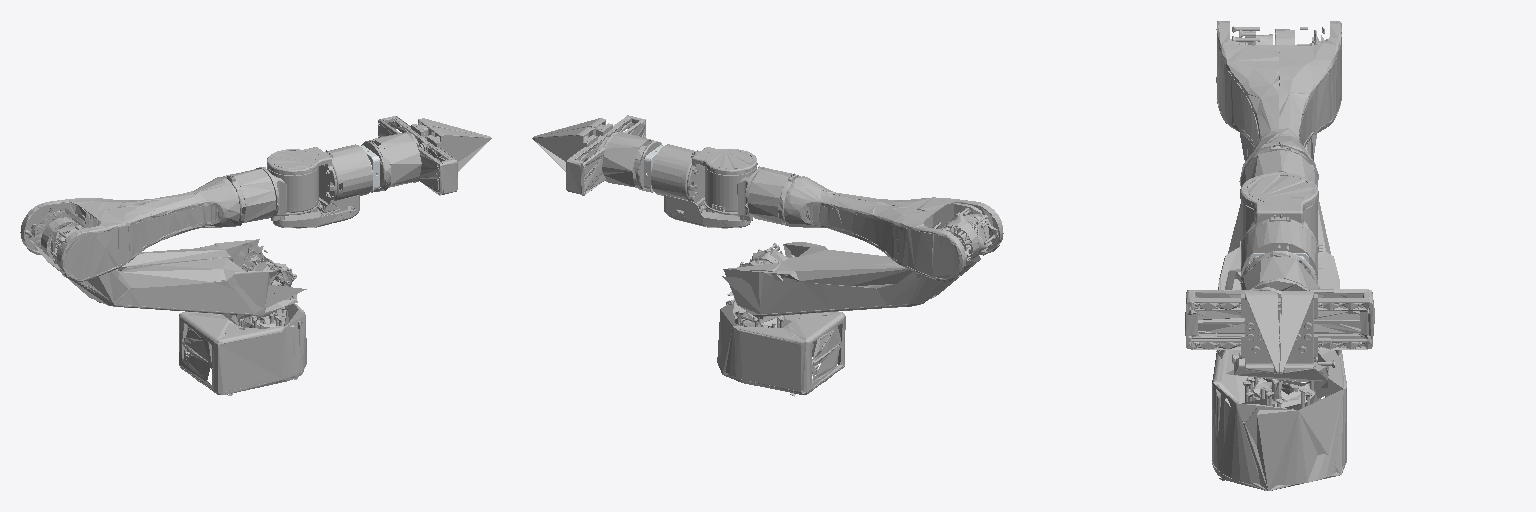
robot.urdf — play_g2:
<?xml version="1.0" ?>
<robot name="play_g2">
  <mujoco>
    <compiler boundmass="0.0001" boundinertia="1e-8" balanceinertia="true" discardvisual="false"/>
  </mujoco>
  <link name="base_link">
    <inertial>
      <origin xyz="-0.018345 -0.002558 0.03724" rpy="0 0 0"/>
      <mass value="0.6735"/>
      <inertia ixx="0.00121381" ixy="-3.271E-05" ixz="-0.00023366" iyy="0.00164872" iyz="-2.757E-05" izz="0.00126552"/>
    </inertial>
    <visual>
      <origin xyz="0 0 0" rpy="0 0 0"/>
      <geometry>
        <mesh filename="meshes/base_link.obj"/>
      </geometry>
      <material name="">
        <color rgba="0.75294 0.75294 0.75294 1"/>
      </material>
    </visual>
    <collision>
      <origin xyz="0 0 0" rpy="0 0 0"/>
      <geometry>
        <mesh filename="meshes/base_link.obj"/>
      </geometry>
    </collision>
  </link>
  <link name="link1">
    <inertial>
      <origin xyz="0.00014396 -0.00098536 -0.020968" rpy="0 0 0"/>
      <mass value="0.607"/>
      <inertia ixx="0.0011117" ixy="1.605E-05" ixz="-1.45E-06" iyy="0.0010136" iyz="-7.07E-06" izz="0.0003867"/>
    </inertial>
    <visual>
      <origin xyz="0 0 0" rpy="0 0 0"/>
      <geometry>
        <mesh filename="meshes/link1.obj"/>
      </geometry>
      <material name="">
        <color rgba="0.75294 0.75294 0.75294 1"/>
      </material>
    </visual>
    <collision>
      <origin xyz="0 0 0" rpy="0 0 0"/>
      <geometry>
        <mesh filename="meshes/link1.obj"/>
      </geometry>
    </collision>
  </link>
  <link name="link2">
    <inertial>
      <origin xyz="0.13769 0.012537 0.0044739" rpy="0 0 0"/>
      <mass value="0.918"/>
      <inertia ixx="0.00094437" ixy="0.00112155" ixz="-0.00063705" iyy="0.03479442" iyz="-7.45E-06" izz="0.03461144"/>
    </inertial>
    <visual>
      <origin xyz="0 0 0" rpy="0 0 0"/>
      <geometry>
        <mesh filename="meshes/link2.obj"/>
      </geometry>
      <material name="">
        <color rgba="0.75294 0.75294 0.75294 1"/>
      </material>
    </visual>
    <collision>
      <origin xyz="0 0 0" rpy="0 0 0"/>
      <geometry>
        <mesh filename="meshes/link2.obj"/>
      </geometry>
    </collision>
  </link>
  <link name="link3">
    <inertial>
      <origin xyz="1.5134E-05 0.10706 0.0082136" rpy="0 0 0"/>
      <mass value="0.7"/>
      <inertia ixx="0.01565914" ixy="1.007E-05" ixz="1.02E-06" iyy="0.00045929" iyz="0.00010253" izz="0.0154811"/>
    </inertial>
    <visual>
      <origin xyz="0 0 0" rpy="0 0 0"/>
      <geometry>
        <mesh filename="meshes/link3.obj"/>
      </geometry>
      <material name="">
        <color rgba="0.75294 0.75294 0.75294 1"/>
      </material>
    </visual>
    <collision>
      <origin xyz="0 0 0" rpy="0 0 0"/>
      <geometry>
        <mesh filename="meshes/link3.obj"/>
      </geometry>
    </collision>
  </link>
  <link name="link4">
    <inertial>
      <origin xyz="-1.6216E-05 0.002995 -0.019407" rpy="0 0 0"/>
      <mass value="0.359"/>
      <inertia ixx="0.00051773" ixy="-4E-08" ixz="1.5E-07" iyy="0.00052925" iyz="-4.05E-06" izz="0.00013681"/>
    </inertial>
    <visual>
      <origin xyz="0 0 0" rpy="0 0 0"/>
      <geometry>
        <mesh filename="meshes/link4.obj"/>
      </geometry>
      <material name="">
        <color rgba="0.75294 0.75294 0.75294 1"/>
      </material>
    </visual>
    <collision>
      <origin xyz="0 0 0" rpy="0 0 0"/>
      <geometry>
        <mesh filename="meshes/link4.obj"/>
      </geometry>
    </collision>
  </link>
  <link name="link5">
    <inertial>
      <origin xyz="-4.5037E-05 0.033144 0.0024106" rpy="0 0 0"/>
      <mass value="0.403"/>
      <inertia ixx="0.00116016" ixy="-3.1E-07" ixz="-2.4E-07" iyy="0.00024251" iyz="-4.809E-05" izz="0.00108456"/>
    </inertial>
    <visual>
      <origin xyz="0 0 0" rpy="0 0 0"/>
      <geometry>
        <mesh filename="meshes/link5.obj"/>
      </geometry>
      <material name="">
        <color rgba="0.75294 0.75294 0.75294 1"/>
      </material>
    </visual>
    <collision>
      <origin xyz="0 0 0" rpy="0 0 0"/>
      <geometry>
        <mesh filename="meshes/link5.obj"/>
      </geometry>
    </collision>
  </link>
  <link name="link6">
    <inertial>
      <origin xyz="-4.6366E-05 4.3424E-05 0.066592" rpy="0 0 0"/>
      <mass value="0.11"/>
      <inertia ixx="0.00051056" ixy="0" ixz="-3.4E-07" iyy="0.00051056" iyz="3.2E-07" izz="1.73E-05"/>
    </inertial>
    <visual>
      <origin xyz="0 0 0" rpy="0 0 0"/>
      <geometry>
        <mesh filename="meshes/link6.obj"/>
      </geometry>
      <material name="">
        <color rgba="1 1 1 1"/>
      </material>
    </visual>
    <collision>
      <origin xyz="0 0 0" rpy="0 0 0"/>
      <geometry>
        <mesh filename="meshes/link6.obj"/>
      </geometry>
    </collision>
  </link>
  <link name="eef_connect_base_link">
    <inertial>
      <origin xyz="3.5687E-06 0.00020484 -0.004811" rpy="0 0 0"/>
      <mass value="0.019009"/>
      <inertia ixx="4.0476E-06" ixy="-9.5794E-10" ixz="1.8201E-10" iyy="3.9455E-06" iyz="7.997E-09" izz="7.498E-06"/>
    </inertial>
    <visual>
      <origin xyz="0 0 0" rpy="0 0 0"/>
      <geometry>
        <mesh filename="meshes/eef_connect_base_link.obj"/>
      </geometry>
      <material name="">
        <color rgba="0.89804 0.91765 0.92941 1"/>
      </material>
    </visual>
    <collision>
      <origin xyz="0 0 0" rpy="0 0 0"/>
      <geometry>
        <mesh filename="meshes/eef_connect_base_link.obj"/>
      </geometry>
    </collision>
  </link>
  <joint name="joint1" type="revolute">
    <origin xyz="0 0 0.1127" rpy="0 0 0"/>
    <parent link="base_link"/>
    <child link="link1"/>
    <axis xyz="0 0 1"/>
    <limit lower="-3.1416" upper="2.0944" effort="0" velocity="0"/>
  </joint>
  <joint name="joint2" type="revolute">
    <origin xyz="0 0 0" rpy="-1.5708 -0.3867 3.1416"/>
    <parent link="link1"/>
    <child link="link2"/>
    <axis xyz="0 0 1"/>
    <limit lower="-2.9671" upper="0.17453" effort="0" velocity="0"/>
  </joint>
  <joint name="joint3" type="revolute">
    <origin xyz="0.27009 0 0" rpy="0 0 1.9575"/>
    <parent link="link2"/>
    <child link="link3"/>
    <axis xyz="0 0 1"/>
    <limit lower="-0.087266" upper="3.1416" effort="0" velocity="0"/>
  </joint>
  <joint name="joint4" type="revolute">
    <origin xyz="0 0.29015 0" rpy="-1.5708 -1.5708 0"/>
    <parent link="link3"/>
    <child link="link4"/>
    <axis xyz="0 0 1"/>
    <limit lower="-3.0107" upper="3.0107" effort="0" velocity="0"/>
  </joint>
  <joint name="joint5" type="revolute">
    <origin xyz="0 0 0" rpy="1.5708 0 0"/>
    <parent link="link4"/>
    <child link="link5"/>
    <axis xyz="0 0 1"/>
    <limit lower="-1.7628" upper="1.7628" effort="0" velocity="0"/>
  </joint>
  <joint name="joint6" type="revolute">
    <origin xyz="0 0 0" rpy="-1.5708 0 0"/>
    <parent link="link5"/>
    <child link="link6"/>
    <axis xyz="0 0 1"/>
    <limit lower="-3.0107" upper="3.0107" effort="0" velocity="0"/>
  </joint>
  <joint name="arm_connect_joint" type="fixed">
    <parent link="link6"/>
    <child link="eef_connect_base_link"/>
    <origin xyz="0.0 0.0 0.0955" rpy="0.0 0.0 0.0"/>
  </joint>
  <link name="g2_base_link">
    <inertial>
      <origin xyz="5.9308E-05 -3.262E-05 0.041814" rpy="0 0 0"/>
      <mass value="0.488"/>
      <inertia ixx="0.00115523" ixy="-2E-06" ixz="2.2E-07" iyy="0.00137334" iyz="-8.7E-07" izz="0.00042051"/>
    </inertial>
    <visual>
      <origin xyz="0 0 0" rpy="0 0 0"/>
      <geometry>
        <mesh filename="meshes/g2_base_link.obj"/>
      </geometry>
      <material name="">
        <color rgba="0.75294 0.75294 0.75294 1"/>
      </material>
    </visual>
    <collision>
      <origin xyz="0 0 0" rpy="0 0 0"/>
      <geometry>
        <mesh filename="meshes/g2_base_link.obj"/>
      </geometry>
    </collision>
  </link>
  <link name="g2_left_link">
    <inertial>
      <origin xyz="0.018307 5.9636E-06 0.012505" rpy="0 0 0"/>
      <mass value="0.054004"/>
      <inertia ixx="2.46E-05" ixy="0" ixz="7.55E-06" iyy="4.78E-05" iyz="0" izz="4.892E-05"/>
    </inertial>
    <visual>
      <origin xyz="0 0 0" rpy="0 0 0"/>
      <geometry>
        <mesh filename="meshes/g2_left_link.obj"/>
      </geometry>
      <material name="">
        <color rgba="0.75294 0.75294 0.75294 1"/>
      </material>
    </visual>
    <collision>
      <origin xyz="0 0 0" rpy="0 0 0"/>
      <geometry>
        <mesh filename="meshes/g2_left_link.obj"/>
      </geometry>
    </collision>
  </link>
  <link name="g2_right_link">
    <inertial>
      <origin xyz="0.018307 -6.8572E-07 0.012505" rpy="0 0 0"/>
      <mass value="0.054004"/>
      <inertia ixx="2.46E-05" ixy="0" ixz="7.55E-06" iyy="4.78E-05" iyz="0" izz="4.892E-05"/>
    </inertial>
    <visual>
      <origin xyz="0 0 0" rpy="0 0 0"/>
      <geometry>
        <mesh filename="meshes/g2_right_link.obj"/>
      </geometry>
      <material name="">
        <color rgba="0.75294 0.75294 0.75294 1"/>
      </material>
    </visual>
    <collision>
      <origin xyz="0 0 0" rpy="0 0 0"/>
      <geometry>
        <mesh filename="meshes/g2_right_link.obj"/>
      </geometry>
    </collision>
  </link>
  <joint name="g2_left_joint" type="prismatic">
    <origin xyz="0 0 0.0705" rpy="0 -1.5708 0"/>
    <parent link="g2_base_link"/>
    <child link="g2_left_link"/>
    <axis xyz="0 0 1"/>
    <limit lower="0" upper="0.0366" effort="0" velocity="0"/>
    <mimic joint="g2_joint" multiplier="0.5"/>
  </joint>
  <joint name="g2_right_joint" type="prismatic">
    <origin xyz="0 0 0.0705" rpy="3.1416 -1.5708 0"/>
    <parent link="g2_base_link"/>
    <child link="g2_right_link"/>
    <axis xyz="0 0 1"/>
    <limit lower="0" upper="0.0366" effort="0" velocity="0"/>
    <mimic joint="g2_joint" multiplier="0.5"/>
  </joint>
  <joint name="connect_eef_joint" type="fixed">
    <parent link="eef_connect_base_link"/>
    <child link="g2_base_link"/>
    <origin xyz="0.0 0.0 0.0" rpy="0.0 0.0 0.0"/>
  </joint>
  <link name="end_link"/>
  <link name="g2_virtual_link"/>
  <joint name="end_joint" type="fixed">
    <parent link="link6"/>
    <child link="end_link"/>
    <origin xyz="0.0 0.0 0.2466" rpy="1.5708 -1.5708 0.0"/>
  </joint>
  <joint name="g2_joint" type="prismatic">
    <parent link="g2_base_link"/>
    <child link="g2_virtual_link"/>
    <origin xyz="0.0 0.0 0.0" rpy="0.0 0.0 0.0"/>
    <axis xyz="0.0 0.0 1.0"/>
    <limit lower="0.0" upper="0.072" effort="0.0" velocity="0.0"/>
  </joint>
</robot>

--- Render facts (derived) ---
3 views of the same robot in one strip: view 1: azimuth 30°, elevation 25°; view 2: azimuth 150°, elevation 25°; view 3: azimuth 270°, elevation 25° (orthographic).
Robot: play_g2 — 13 links, 12 joints (6 revolute, 3 prismatic, 3 fixed); root link base_link; default pose: all joints at 0.
Links seen in each view (by area): view 1: link3, link2, base_link, link5, g2_base_link, link4, g2_right_link, link1; view 2: link3, link2, base_link, link5, g2_base_link, link4, g2_left_link, link1; view 3: link3, base_link, g2_base_link, link5, link2, g2_left_link, g2_right_link, link1, link4.
Link boxes in pixels (x1,y1,x2,y2): link3: [20, 169, 275, 281]; link2: [25, 207, 306, 316]; base_link: [179, 304, 306, 395]; link5: [267, 144, 372, 228]; g2_base_link: [361, 116, 457, 195]; link4: [256, 167, 319, 220]; g2_right_link: [427, 127, 491, 171]; link1: [230, 243, 297, 324]; link3: [748, 168, 1003, 281]; link2: [722, 208, 995, 316]; base_link: [717, 302, 845, 396]; link5: [651, 144, 757, 228]; g2_base_link: [566, 115, 662, 195]; link4: [704, 166, 764, 220]; g2_left_link: [532, 127, 597, 171]; link1: [726, 243, 794, 326]; link3: [1216, 21, 1341, 186]; base_link: [1212, 350, 1346, 490]; g2_base_link: [1185, 251, 1374, 349]; link5: [1240, 173, 1318, 279]; link2: [1216, 26, 1341, 358]; g2_left_link: [1279, 291, 1317, 373]; g2_right_link: [1241, 291, 1278, 373]; link1: [1232, 350, 1334, 403]; link4: [1241, 172, 1322, 252].
Bounding box of the posed robot: 0.5729 × 0.1403 × 0.2462 m (x, y, z).
Meshes: 11 distinct files referenced, 11 mesh visuals loaded (11 OBJ).
